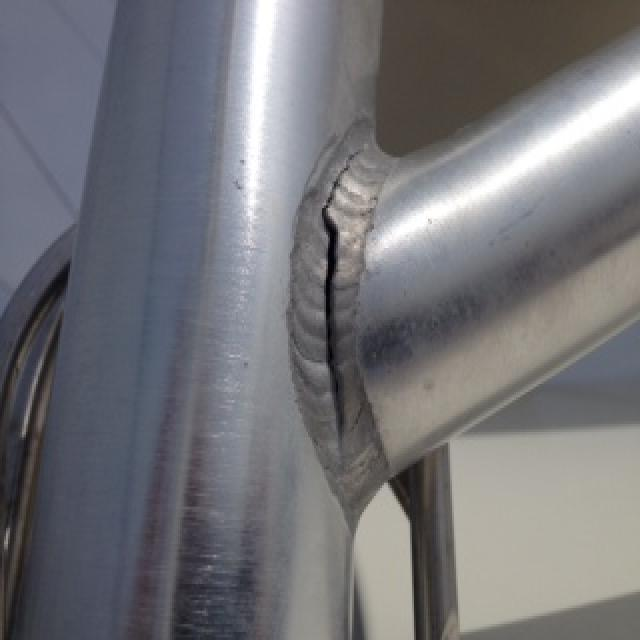Crack: (313, 135, 371, 469)
